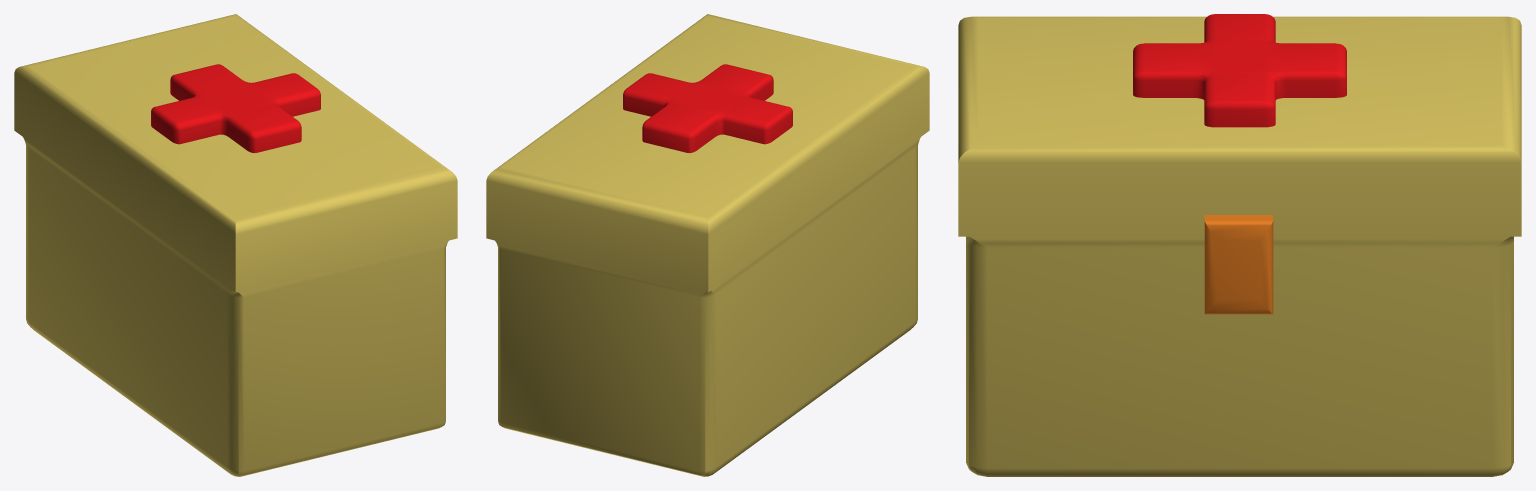
Rendered from Medkit.glb.
The picture shows the model from 3 angles, left to right: view 1: azimuth 30°, elevation 25°; view 2: azimuth 150°, elevation 25°; view 3: azimuth 270°, elevation 25°; orthographic projection. The views are drawn at different scales.
Parts seen in each view (by area): view 1: Cube, Cube.002; view 2: Cube, Cube.002; view 3: Cube, Cube.002, Cube.001.
Part boxes in pixels (x1,y1,x2,y2): Cube: (14, 14, 457, 476); Cube.002: (151, 64, 320, 153); Cube: (486, 14, 929, 476); Cube.002: (623, 64, 792, 153); Cube: (958, 16, 1521, 476); Cube.002: (1133, 14, 1346, 127); Cube.001: (1204, 215, 1273, 314).
Size of the model in its own units: 0.3043 by 0.3452 by 0.4935.
